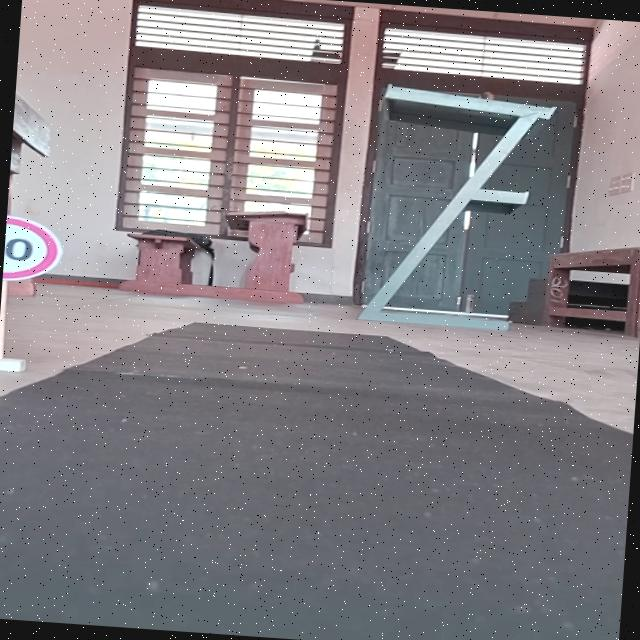Speed40: (1, 212, 70, 288)
